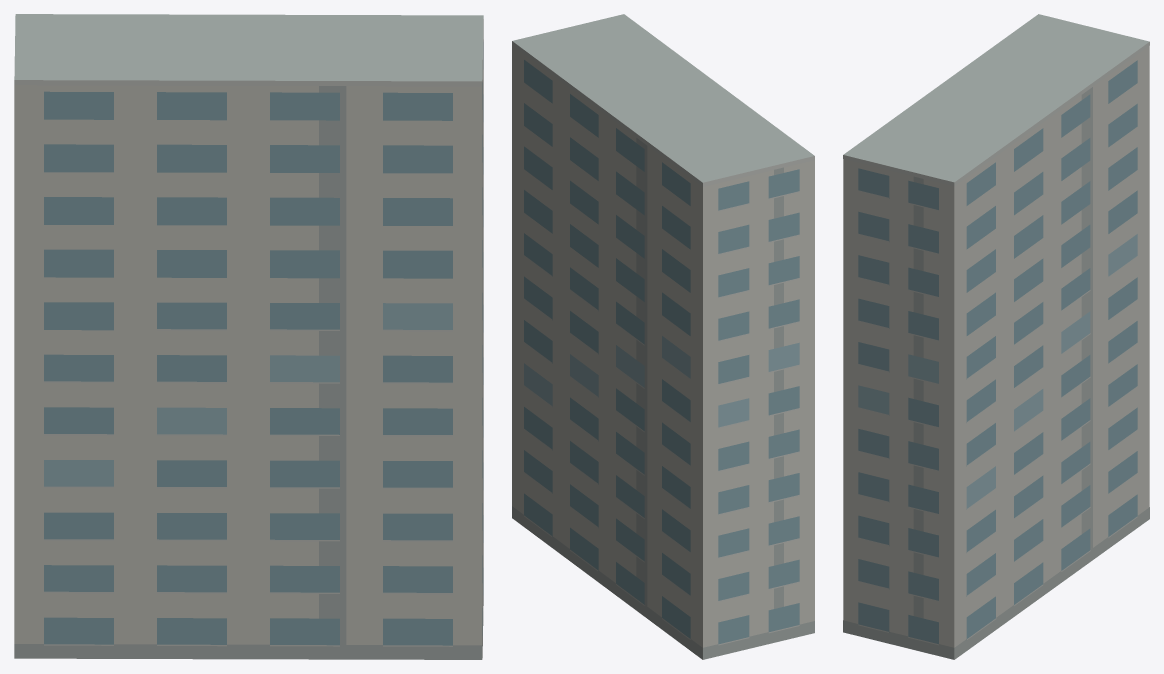
File: residential-83761dcc-386f-444f-a760-3c3530e38a44.glb
3 renders of one model, left to right at view 1: azimuth 30°, elevation 25°; view 2: azimuth 150°, elevation 25°; view 3: azimuth 270°, elevation 25°, orthographic. The views are drawn at different scales.
Parts seen in each view (by area): view 1: residential-83761dcc-386f-444f-a760-3c3530e38a44.tmp; view 2: residential-83761dcc-386f-444f-a760-3c3530e38a44.tmp; view 3: residential-83761dcc-386f-444f-a760-3c3530e38a44.tmp.
Part boxes in pixels (<box>): residential-83761dcc-386f-444f-a760-3c3530e38a44.tmp: <box>14,14,483,659</box>; residential-83761dcc-386f-444f-a760-3c3530e38a44.tmp: <box>512,14,814,659</box>; residential-83761dcc-386f-444f-a760-3c3530e38a44.tmp: <box>843,14,1149,659</box>.
Size of the model in its own units: 21.19 by 28 by 16.31.
